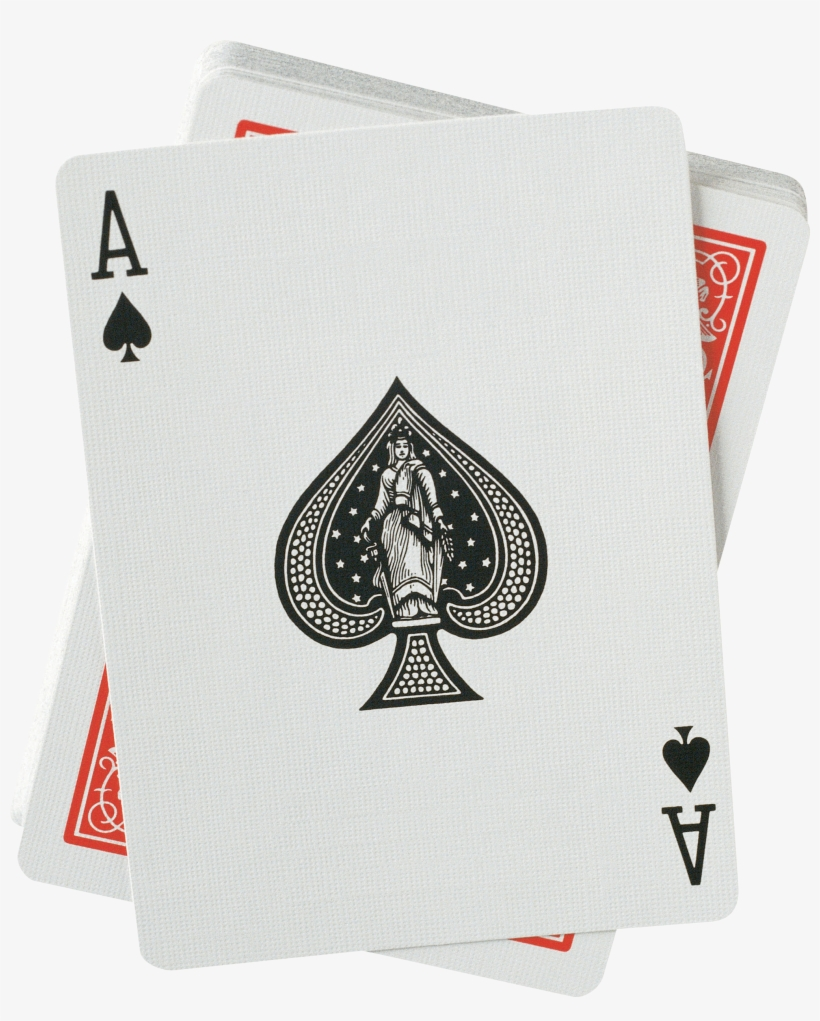ace of spades: (59, 104, 733, 970)
